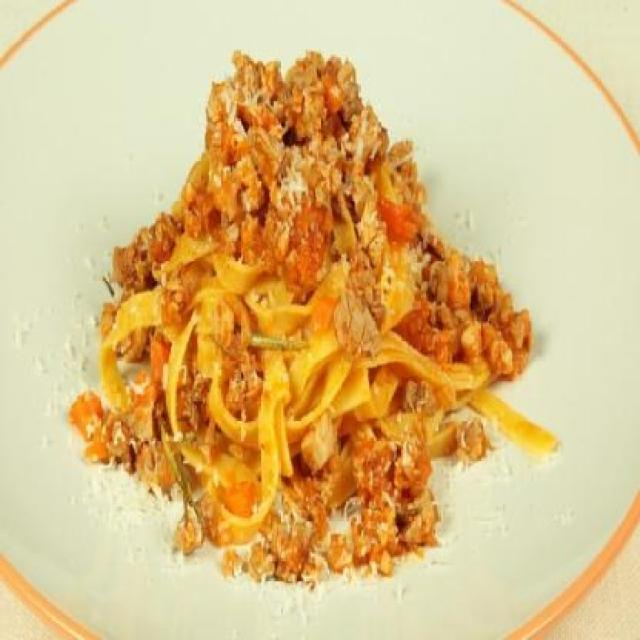Pasta al ragu: (85, 8, 562, 594)
